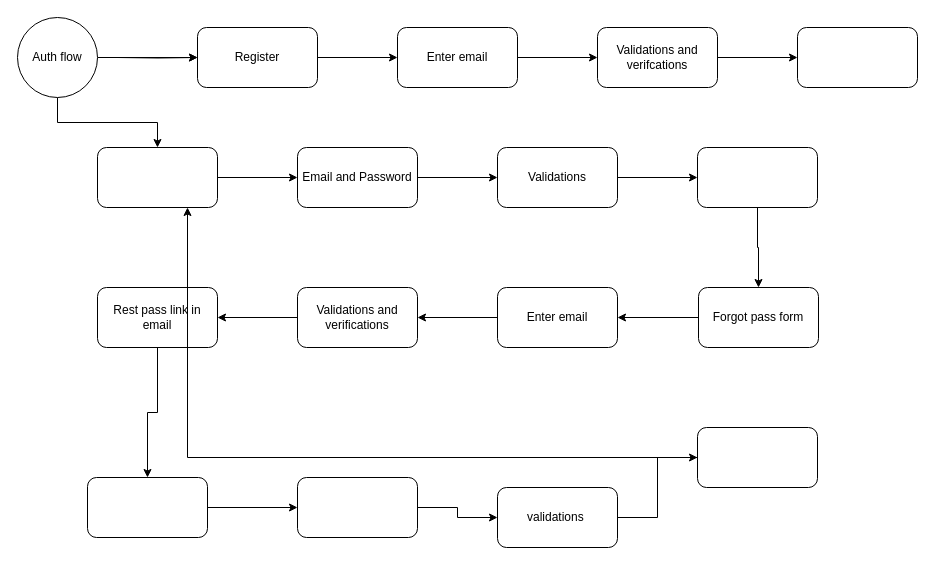
Some shapes in this 935 by 565 pixel diagram are drawn without their labels. Here are the shapes that lost their labels. From the top down, the centre of each, then its label:
At (857,57): "Email link will open regDetails form".
At (157,177): "Login".
At (757,177): "Login success go to home ('/')".
At (757,457): "Return to login screen".
At (147,507): "Reset pass form".
At (357,507): "Pass and confirm pass".
